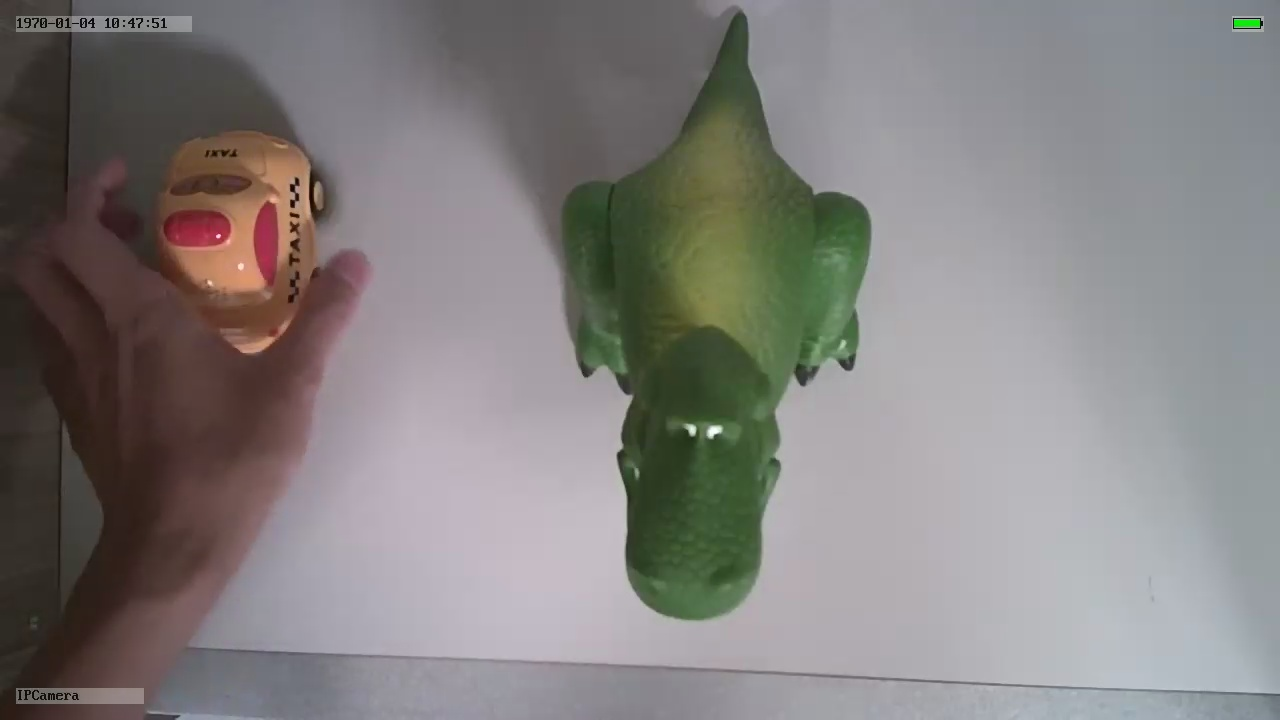rex: (558, 95, 873, 620)
